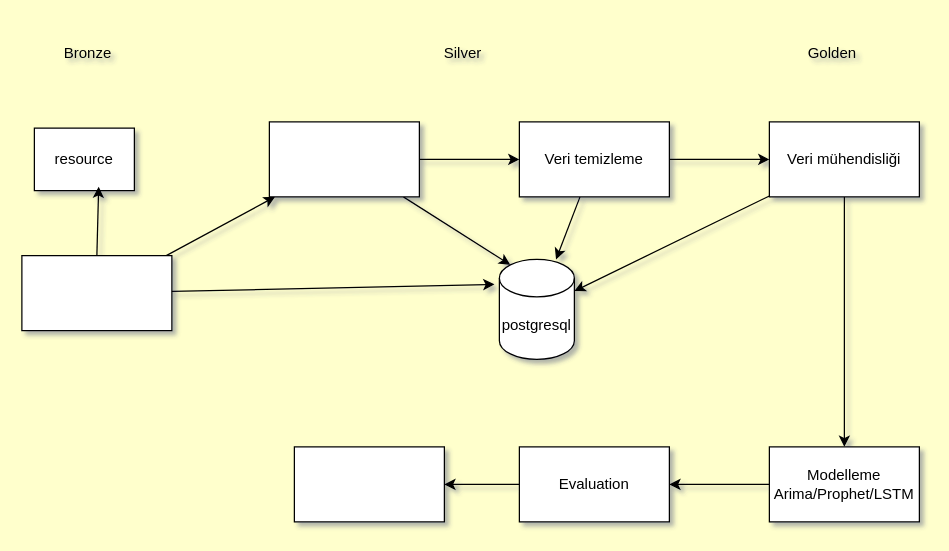
The diagram is 949 pixels wide and 551 high, and some of its shapes have lost their labels. The shapes that lost their labels are listed below. From the top down, each one's box as (x1, y1, x2, y2) in pixels, then its label:
(268, 121, 419, 197): Veri validasyonu
(21, 254, 172, 331): Ham veri
(293, 446, 444, 522): Servis
